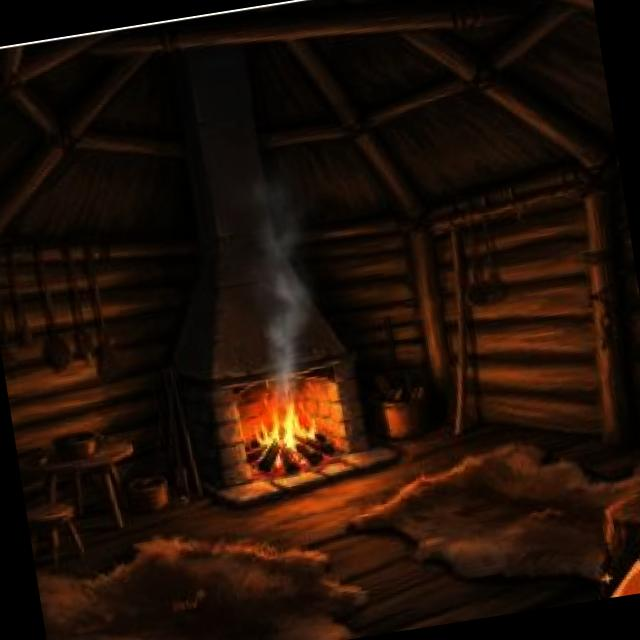Fire_Save: (228, 370, 342, 483)
